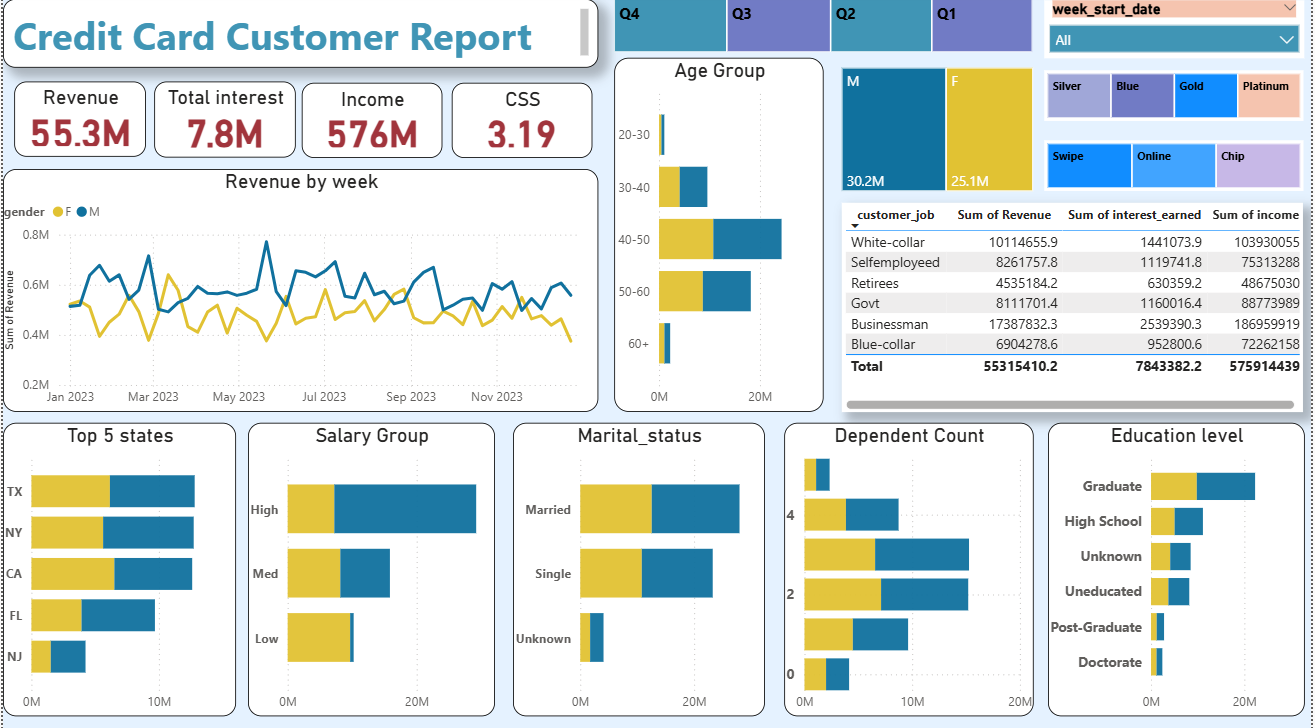

The page's visual inventory and layout, read from the dashboard file:
{"tool":"powerbi","page":{"name":"CC_Customer","canvas":[1280,720],"ordinal":1},"visuals":[{"type":"textbox","box":[0,4.8,582.7,67.6],"z":0},{"type":"barChart","title":" Marital_status","fields":{"Y":["Sum(public cc_detail.Revenue)"],"Category":["public cust_detail.marital_status"],"Series":["public cust_detail.gender"]},"box":[499.5,419.8,246.1,287.1],"z":1000},{"type":"card","title":"Revenue ","fields":{"Values":["Sum(public cc_detail.Revenue)"]},"box":[10.9,85.7,129.1,73.6],"z":2000},{"type":"card","title":"CSS","fields":{"Values":["Avg(public cust_detail.cust_satisfaction_score)"]},"box":[439.1,86.9,137.5,73.6],"z":3000},{"type":"card","title":"Income","fields":{"Values":["Sum(public cust_detail.income)"]},"box":[292,86.9,137.5,73.6],"z":4000},{"type":"card","title":"Total interest ","fields":{"Values":["Sum(public cc_detail.interest_earned)"]},"box":[148.4,85.7,138.7,74.8],"z":5000},{"type":"slicer","fields":{"Values":["public cc_detail.week_start_date"]},"box":[1018.2,6,254.6,56.7],"z":6000},{"type":"treemap","fields":{"Group":["public cc_detail.qtr"],"Values":["Avg(public cc_detail.client_num)"]},"box":[598.4,4.8,409,51.9],"z":7000},{"type":"treemap","fields":{"Group":["public cc_detail.card_category"],"Values":["Avg(public cc_detail.client_num)"]},"box":[1018.2,74.8,253.4,49.5],"z":8000},{"type":"tableEx","fields":{"Values":["public cust_detail.customer_job","Sum(public cc_detail.Revenue)","Sum(public cc_detail.interest_earned)","Sum(public cust_detail.income)"]},"box":[820.4,203.9,451.2,205.1],"z":9000},{"type":"lineChart","title":" Revenue by week","fields":{"Y":["Sum(public cc_detail.Revenue)"],"Series":["public cust_detail.gender"],"Category":["public cc_detail.week_start_date.Variation.Date Hierarchy.Year","public cc_detail.week_start_date.Variation.Date Hierarchy.Month","public cc_detail.week_start_date.Variation.Date Hierarchy.Day"]},"box":[0,171.3,582.7,237.7],"z":10000},{"type":"treemap","fields":{"Group":["public cust_detail.gender"],"Values":["Sum(public cc_detail.Revenue)"]},"box":[820.4,72.4,187,120.6],"z":11000},{"type":"barChart","title":" Age Group","fields":{"Y":["Sum(public cc_detail.Revenue)"],"Category":["public cust_detail.Agegroup"],"Series":["public cust_detail.gender"]},"box":[598.4,62.7,205.1,346.2],"z":12000},{"type":"barChart","title":" Dependent Count","fields":{"Y":["Sum(public cc_detail.Revenue)"],"Category":["public cust_detail.dependent_count"],"Series":["public cust_detail.gender"]},"box":[763.7,419.8,243.7,287.1],"z":13000},{"type":"barChart","title":" Education level","fields":{"Y":["Sum(public cc_detail.Revenue)"],"Category":["public cust_detail.education_level"],"Series":["public cust_detail.gender"]},"box":[1021.9,419.8,250.9,287.1],"z":14000},{"type":"barChart","title":"Top 5 states","fields":{"Y":["Sum(public cc_detail.Revenue)"],"Category":["public cust_detail.state_cd"],"Series":["public cust_detail.gender"]},"box":[0,419.8,228,287.1],"z":15000},{"type":"barChart","title":"Salary Group","fields":{"Y":["Sum(public cc_detail.Revenue)"],"Category":["public cust_detail.IncomeGroup"],"Series":["public cust_detail.gender"]},"box":[240.1,419.8,241.3,287.1],"z":16000},{"type":"treemap","fields":{"Group":["public cc_detail.use_chip"],"Values":["Avg(public cc_detail.client_num)"]},"box":[1018.2,143.6,253.4,49.5],"z":17000}]}

Visuals, with their boxes in screenshot pixels (x1, y1, x2, y2), scaled from the page's 1280x720 canvas onto the 1315x728 screenshot:
textbox: x1=0 y1=5 x2=599 y2=73
" Marital_status" barChart: x1=513 y1=424 x2=766 y2=715
"Revenue " card: x1=11 y1=87 x2=144 y2=161
"CSS" card: x1=451 y1=88 x2=592 y2=162
"Income" card: x1=300 y1=88 x2=441 y2=162
"Total interest " card: x1=152 y1=87 x2=295 y2=162
slicer - public cc_detail.week_start_date: x1=1046 y1=6 x2=1308 y2=63
treemap - public cc_detail.qtr x Avg(public cc_detail.client_num): x1=615 y1=5 x2=1035 y2=57
treemap - public cc_detail.card_category x Avg(public cc_detail.client_num): x1=1046 y1=76 x2=1306 y2=126
tableEx - public cust_detail.customer_job x Sum(public cc_detail.Revenue): x1=843 y1=206 x2=1306 y2=414
" Revenue by week" lineChart: x1=0 y1=173 x2=599 y2=414
treemap - public cust_detail.gender x Sum(public cc_detail.Revenue): x1=843 y1=73 x2=1035 y2=195
" Age Group" barChart: x1=615 y1=63 x2=825 y2=413
" Dependent Count" barChart: x1=785 y1=424 x2=1035 y2=715
" Education level" barChart: x1=1050 y1=424 x2=1308 y2=715
"Top 5 states" barChart: x1=0 y1=424 x2=234 y2=715
"Salary Group" barChart: x1=247 y1=424 x2=495 y2=715
treemap - public cc_detail.use_chip x Avg(public cc_detail.client_num): x1=1046 y1=145 x2=1306 y2=195
